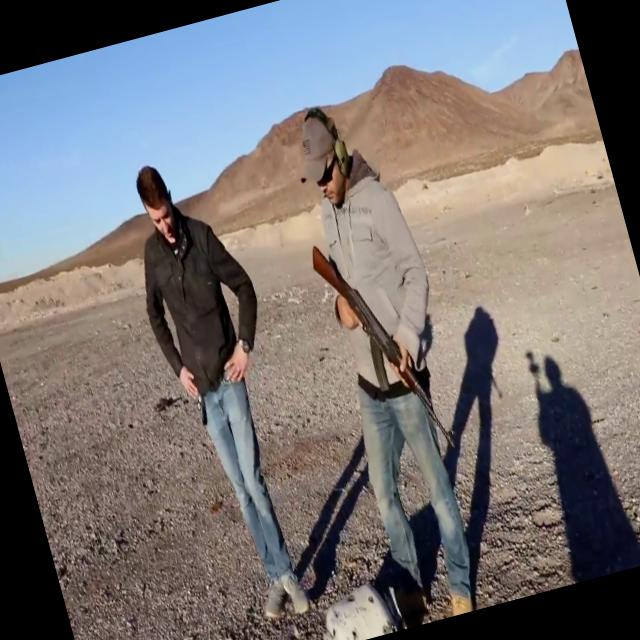long weapon: (301, 209, 465, 477)
